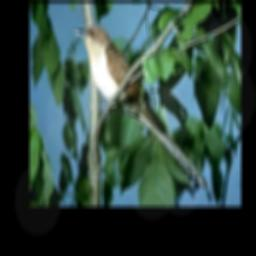Cuckoo: (69, 22, 209, 193)
